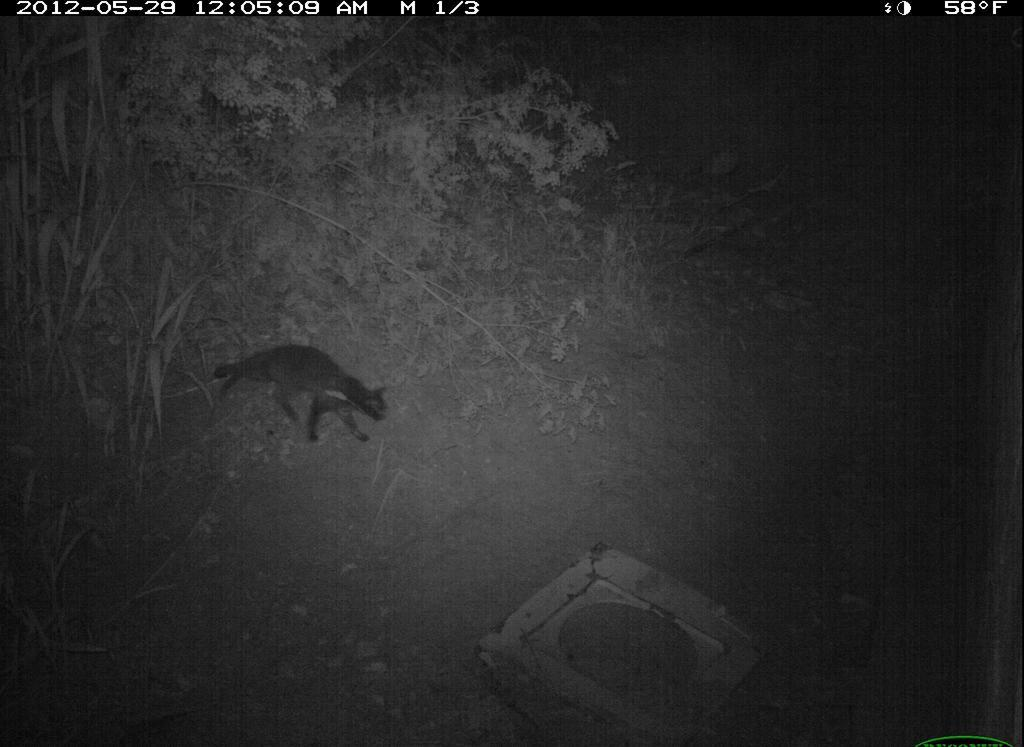cat: (209, 333, 413, 459)
